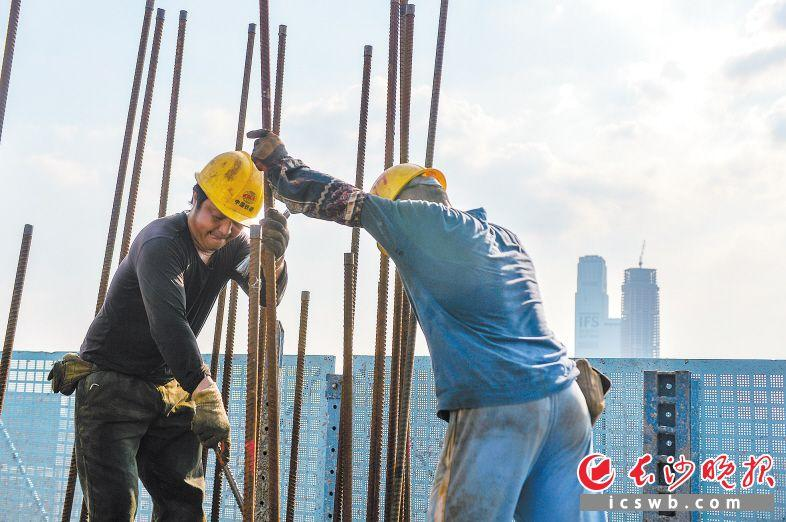helmet: (194, 150, 264, 229), (369, 164, 449, 201)
